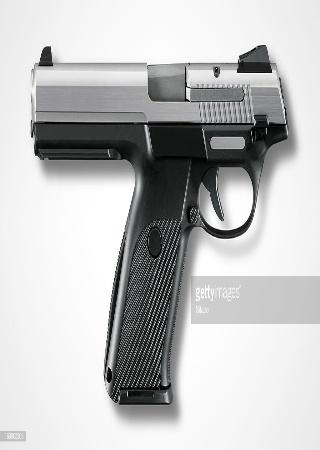handgun: (22, 34, 297, 408)
